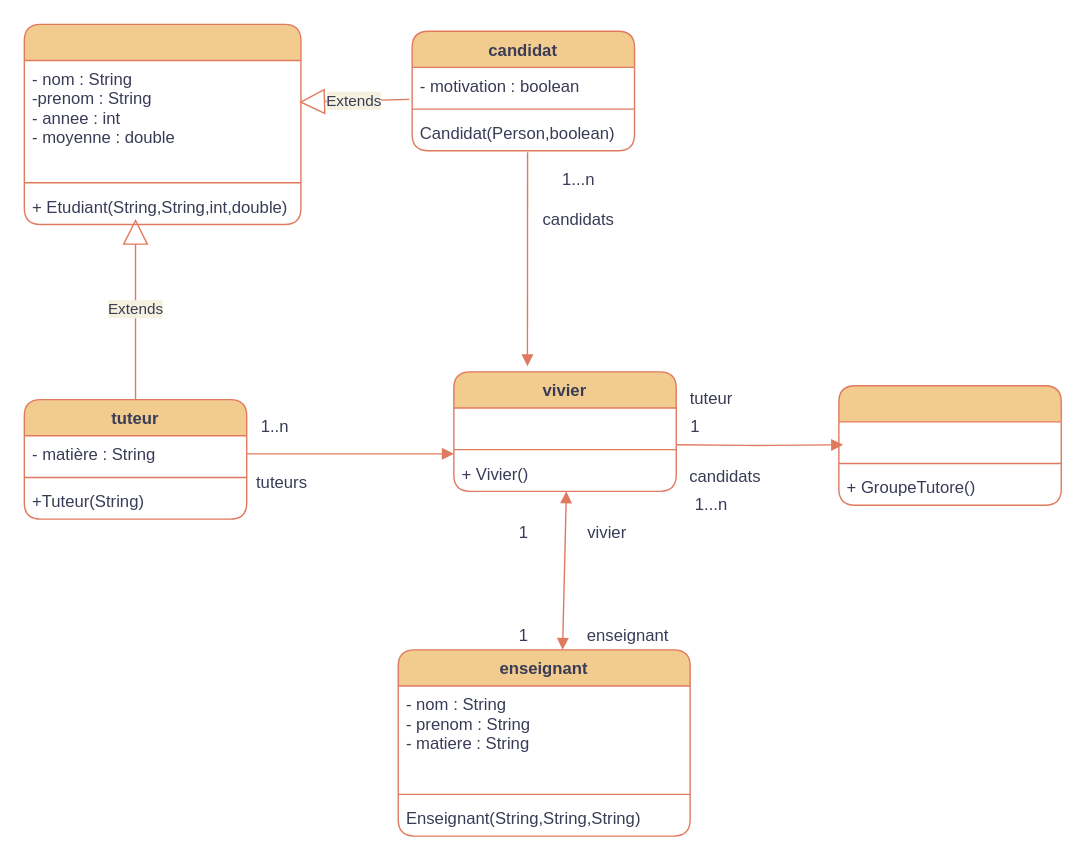
Image size: 1086x865. Some labels were removed from this diagram. Here are the shapes that lost their labels. From the top down, the box of each, then its label:
(23, 23, 301, 224): étudiant
(837, 384, 1061, 505): GroupeTutoré
